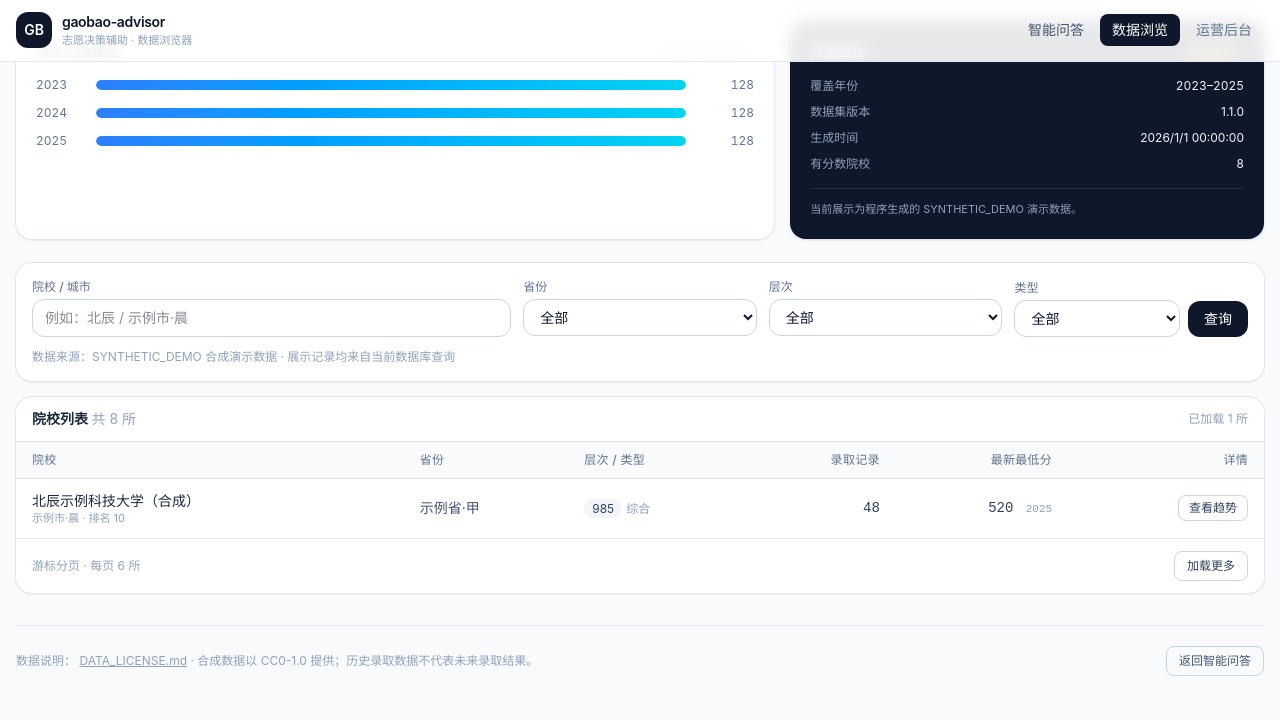
it: DataView › opens a school detail and renders the subject-specific trend
(page scrolled)
Click the button with test id "data-school-1": [1213, 508] box [1178,496,1248,522]
(page scrolled)
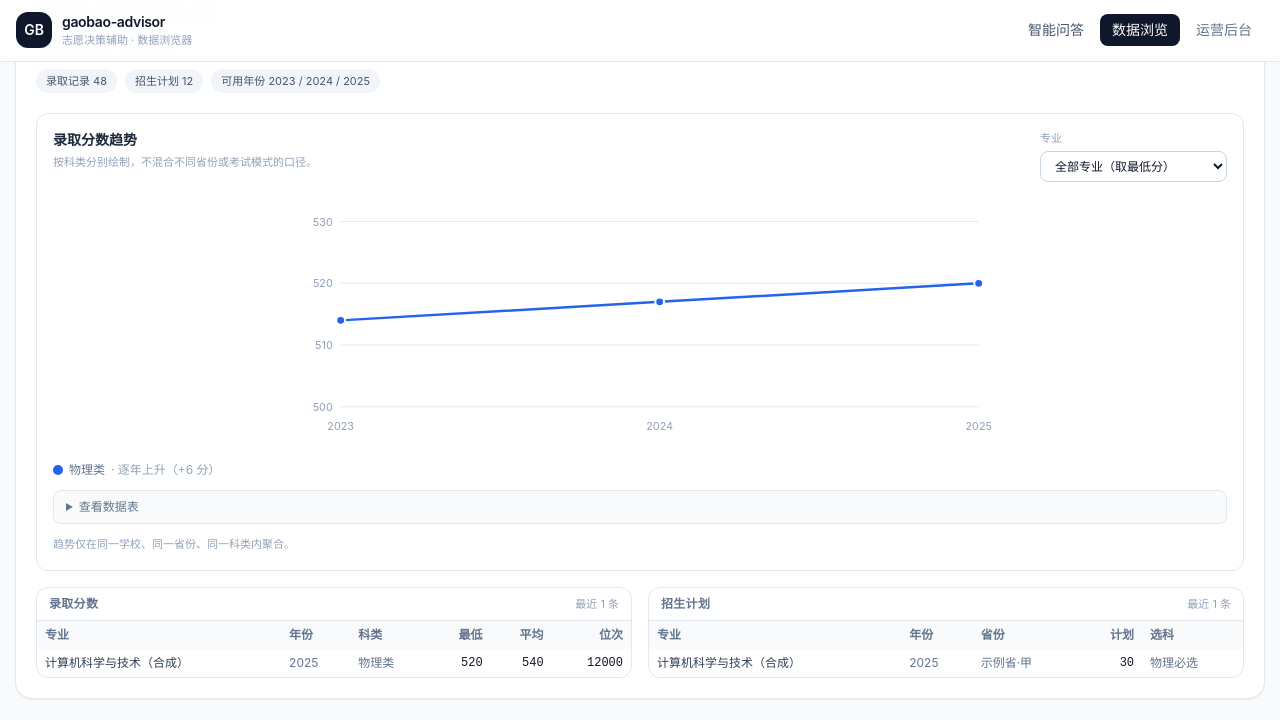
Expected: the text "录取分数趋势" is shown, [53,131,137,148]
Expected: the element with test id "score-trend-chart" is shown, [53,198,1227,524]
